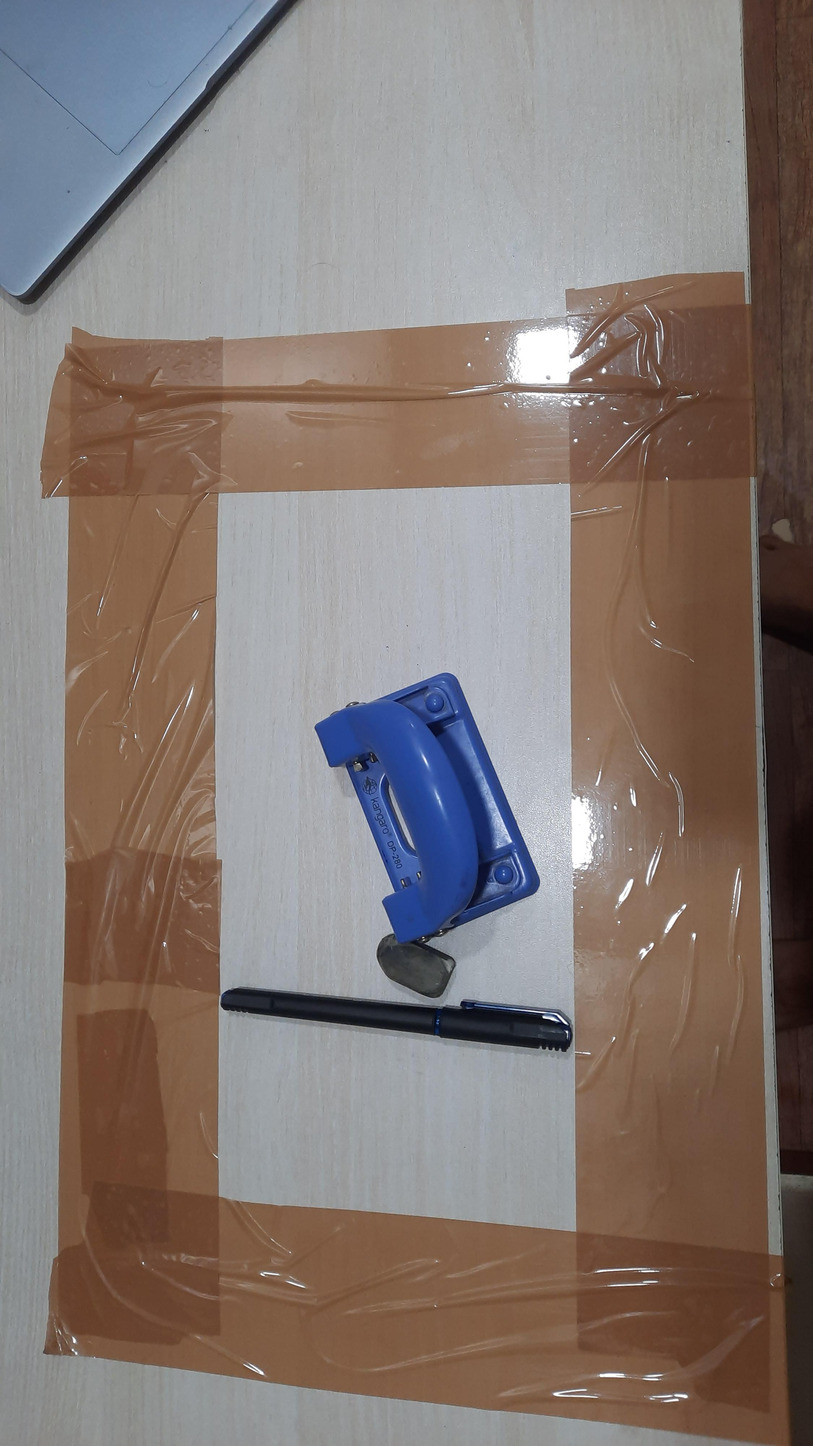Eraser: (376, 933, 457, 998)
Pen: (220, 987, 573, 1053)
Punch: (314, 672, 541, 945)
